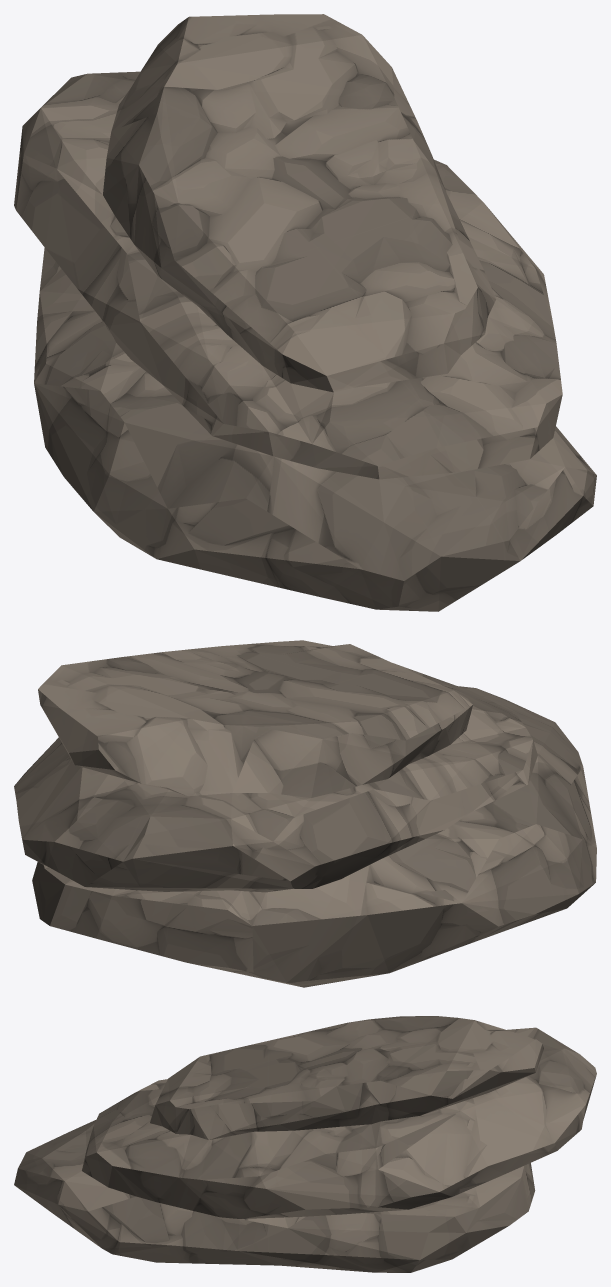
File: source.gltf
3 renders of one model, top to bottom at view 1: azimuth 30°, elevation 25°; view 2: azimuth 150°, elevation 25°; view 3: azimuth 270°, elevation 25°, orthographic. The views are drawn at different scales.
Visible parts, largest first — view 1: SM_Rock_Pile_04; view 2: SM_Rock_Pile_04; view 3: SM_Rock_Pile_04.
Part boxes in pixels (bbox=[...]): SM_Rock_Pile_04: bbox=[14, 14, 596, 611]; SM_Rock_Pile_04: bbox=[14, 640, 596, 987]; SM_Rock_Pile_04: bbox=[14, 1016, 596, 1272].
Bounding box in the file's own units: 4.06 × 2.52 × 6.24.
Materials: 1 (1 with a texture image).
